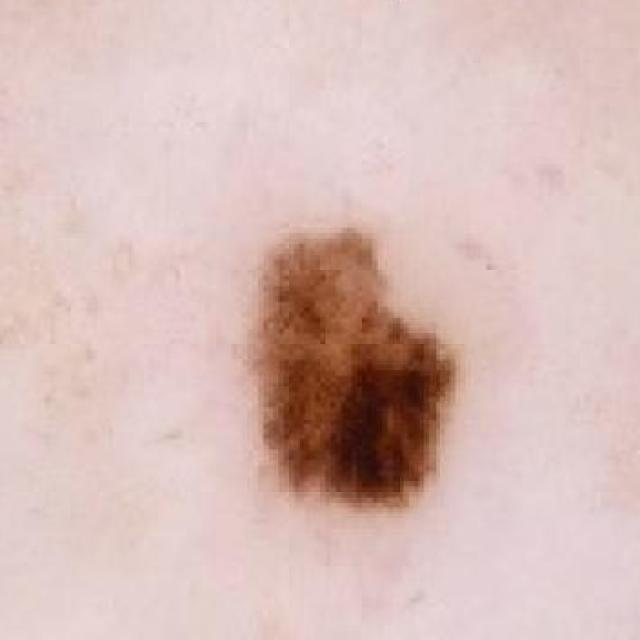AKIEC: (180, 194, 544, 546)
